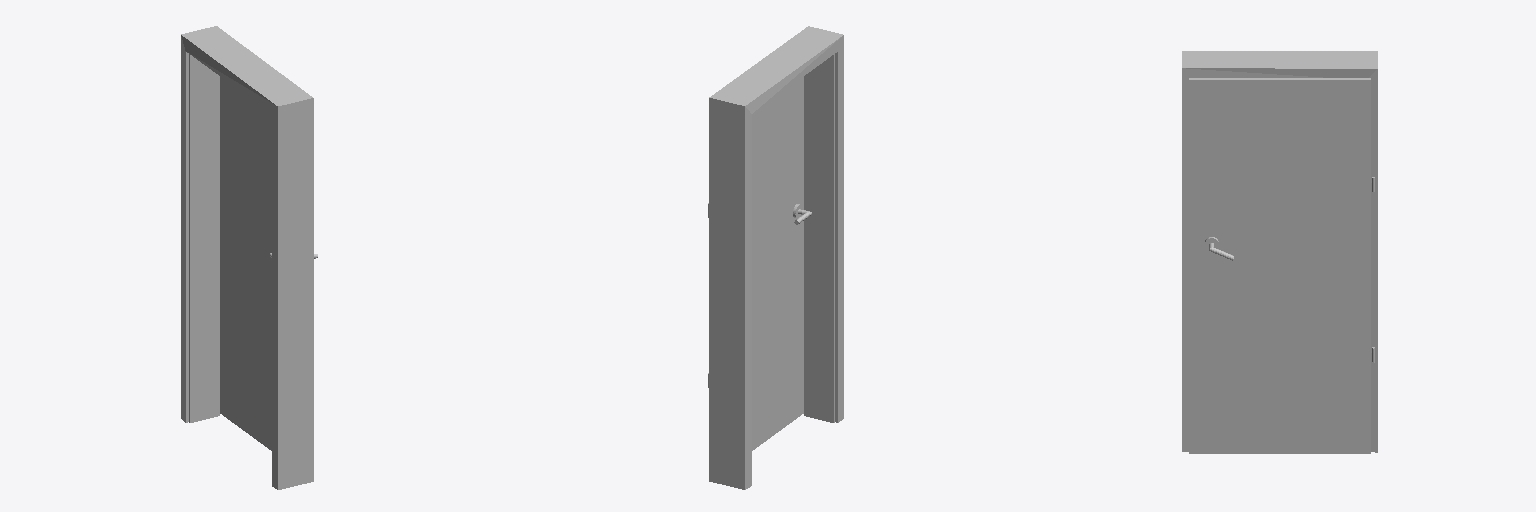
The model's file is door59.obj.
3 renders of one model, left to right at view 1: azimuth 30°, elevation 25°; view 2: azimuth 150°, elevation 25°; view 3: azimuth 270°, elevation 25°, orthographic.
Visible parts, largest first — view 1: Cylinder.005, Cylinder.001; view 2: Cylinder.005, Cylinder.001; view 3: Cylinder.001, Cylinder.005.
Part boxes in pixels (left/top/right/bottom): Cylinder.005: left=181, top=26, right=313, bottom=489; Cylinder.001: left=220, top=77, right=271, bottom=450; Cylinder.005: left=708, top=26, right=843, bottom=489; Cylinder.001: left=708, top=77, right=803, bottom=450; Cylinder.001: left=1189, top=78, right=1374, bottom=453; Cylinder.005: left=1182, top=51, right=1377, bottom=452.
Bounding box in the file's own units: 0.3039 × 2.05 × 0.95.